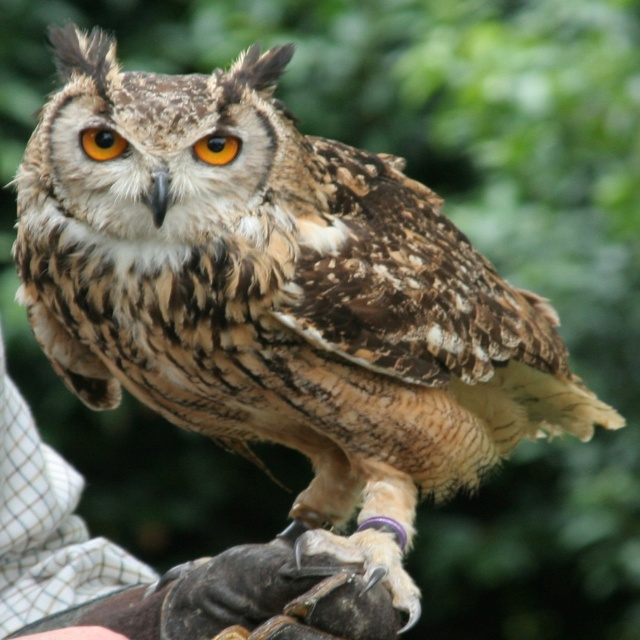Owl: (3, 24, 624, 631)
